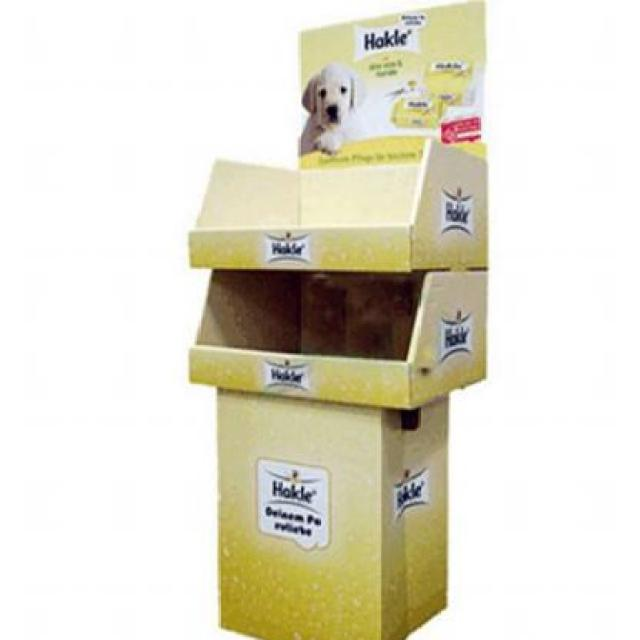box: (158, 0, 572, 640)
